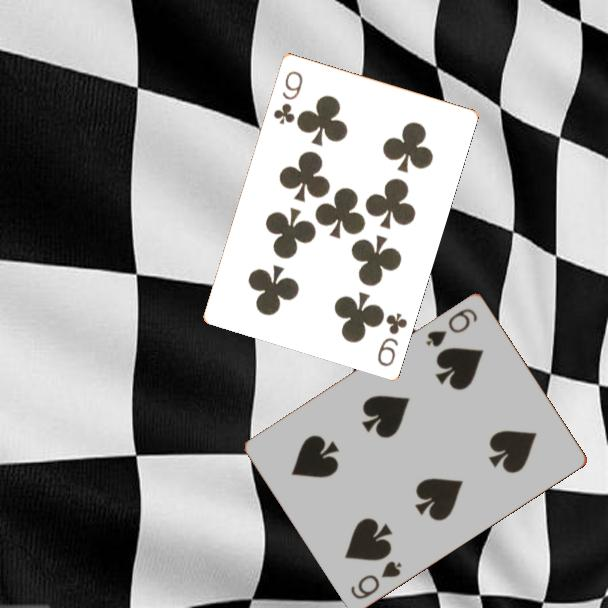c09: (270, 67, 306, 127), (374, 309, 410, 369)
s06: (422, 304, 481, 350), (347, 557, 405, 602)
